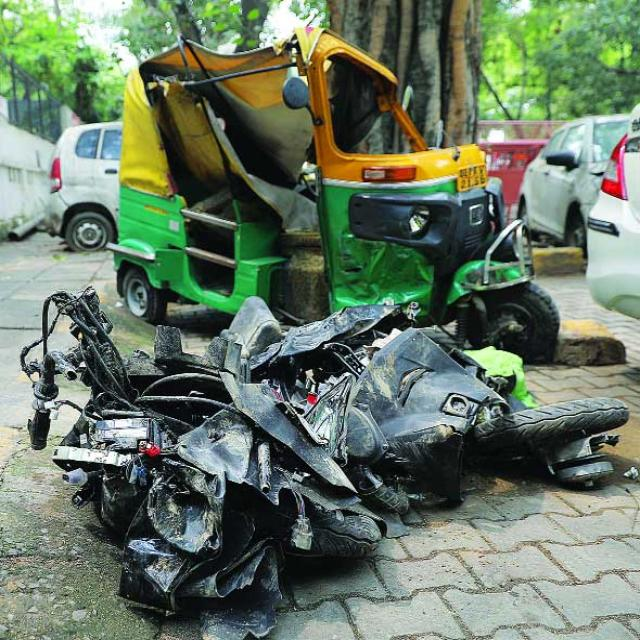accident: (21, 287, 627, 640), (107, 27, 559, 362)
car: (518, 115, 628, 253), (47, 121, 120, 251)
